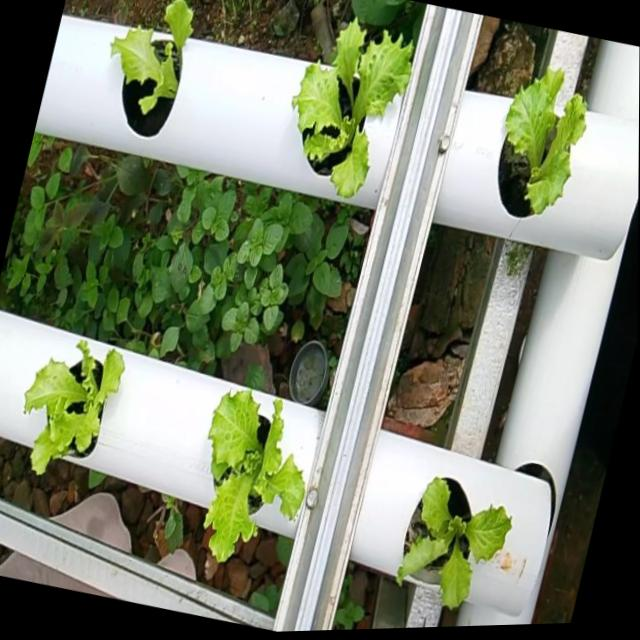Baby: (293, 17, 415, 198), (207, 388, 308, 559), (398, 473, 514, 605), (29, 341, 128, 475), (498, 67, 586, 215), (113, 4, 194, 142)
